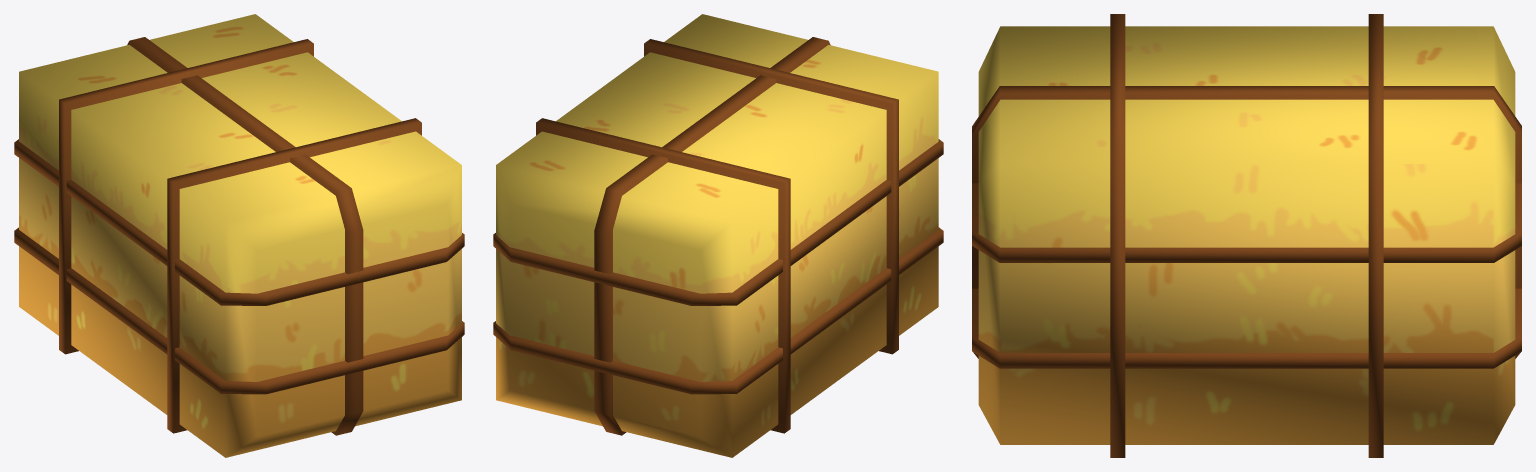
The model's file is tree_sheep2.fbx.
The picture shows the model from 3 angles, left to right: view 1: azimuth 30°, elevation 25°; view 2: azimuth 150°, elevation 25°; view 3: azimuth 270°, elevation 25°; orthographic projection. The views are drawn at different scales.
Parts seen in each view (by area): view 1: tree_sheep2; view 2: tree_sheep2; view 3: tree_sheep2.
Part boxes in pixels (bbox=[...]): tree_sheep2: bbox=[14, 14, 464, 457]; tree_sheep2: bbox=[493, 14, 943, 457]; tree_sheep2: bbox=[972, 14, 1521, 457].
Bounding box in the file's own units: 214 × 206 × 343.
Materials: 1 (1 with a texture image).
